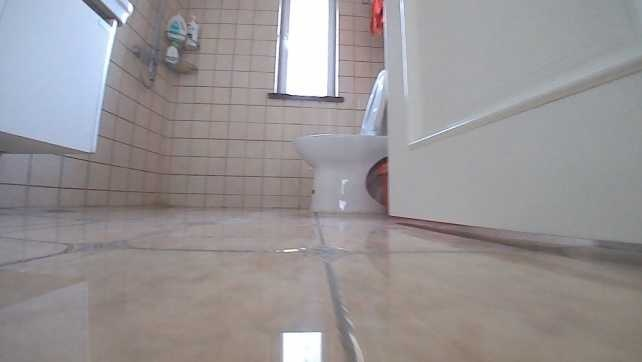toilet: (294, 68, 391, 212)
